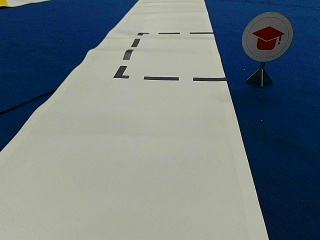school: (243, 12, 292, 60)
